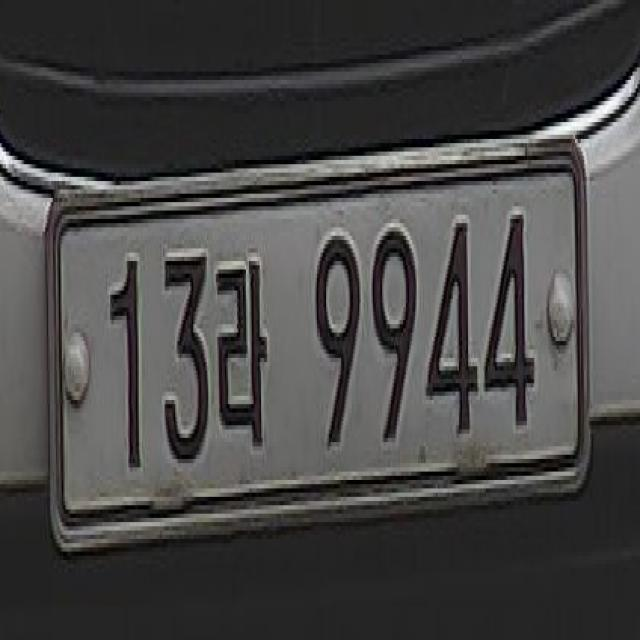1: (106, 227, 156, 488)
3: (157, 240, 211, 476)
4: (481, 202, 542, 451), (423, 206, 480, 463)
9: (308, 211, 368, 463), (368, 210, 424, 459)
la: (214, 240, 274, 463)
license_plate: (42, 110, 590, 581)
